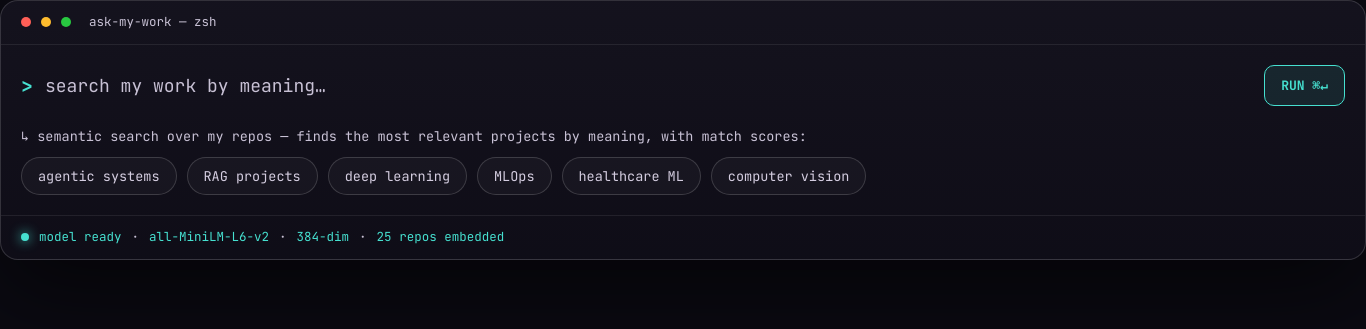
shows answer and sources after asking
The width and height of the screenshot is (1366, 329).
In the search field: (649, 86) [45, 72, 1252, 99], type "best rag project"
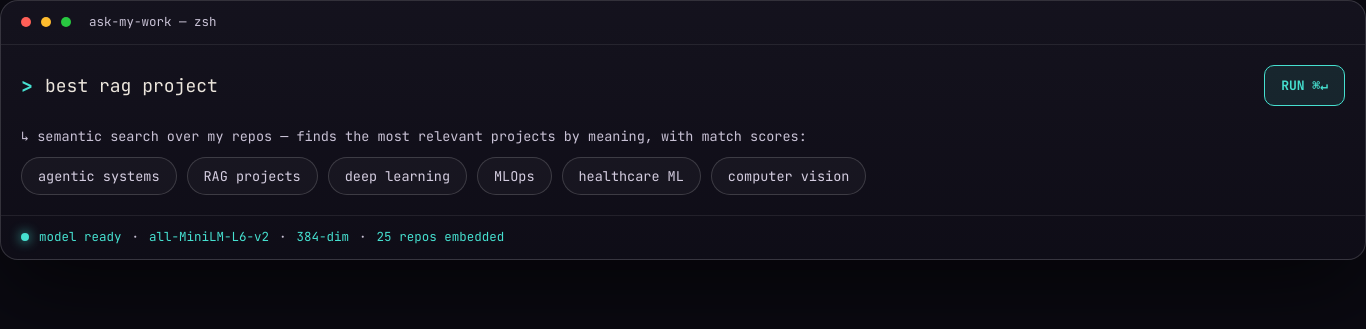
Submit the form, box [21, 65, 1345, 106]
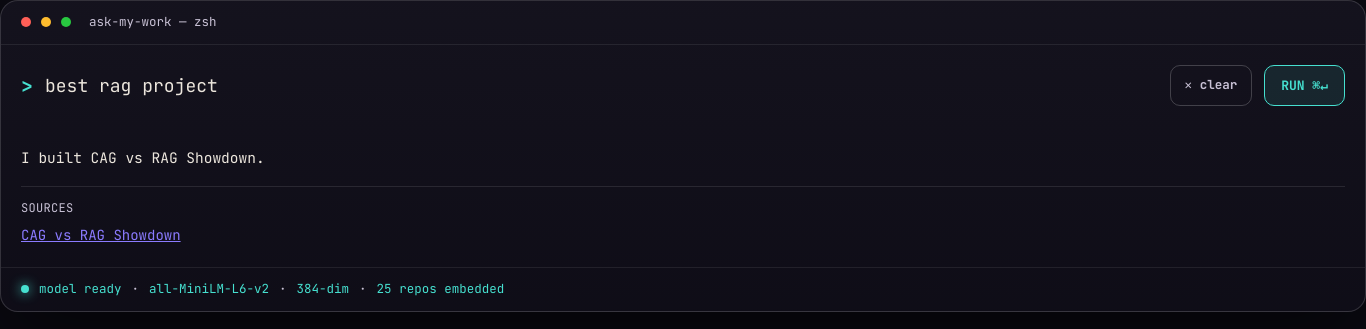
Result: the text "I built CAG vs RAG Showdown." is shown at [21, 148, 265, 167]
